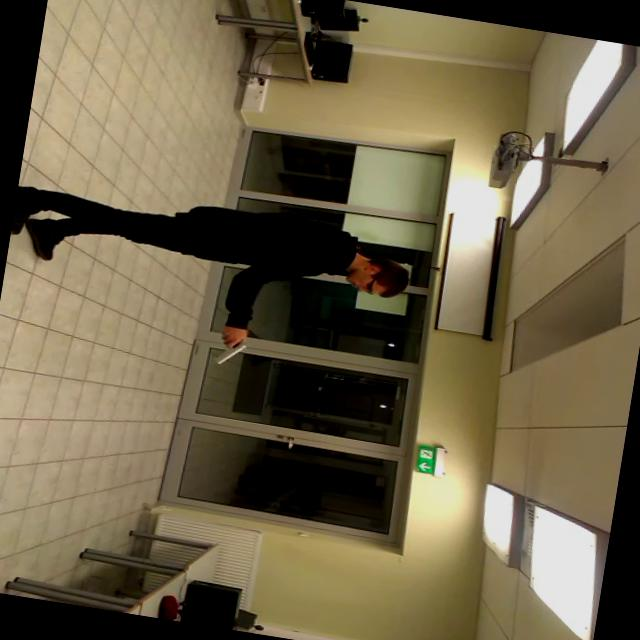handgun: (203, 326, 260, 376)
